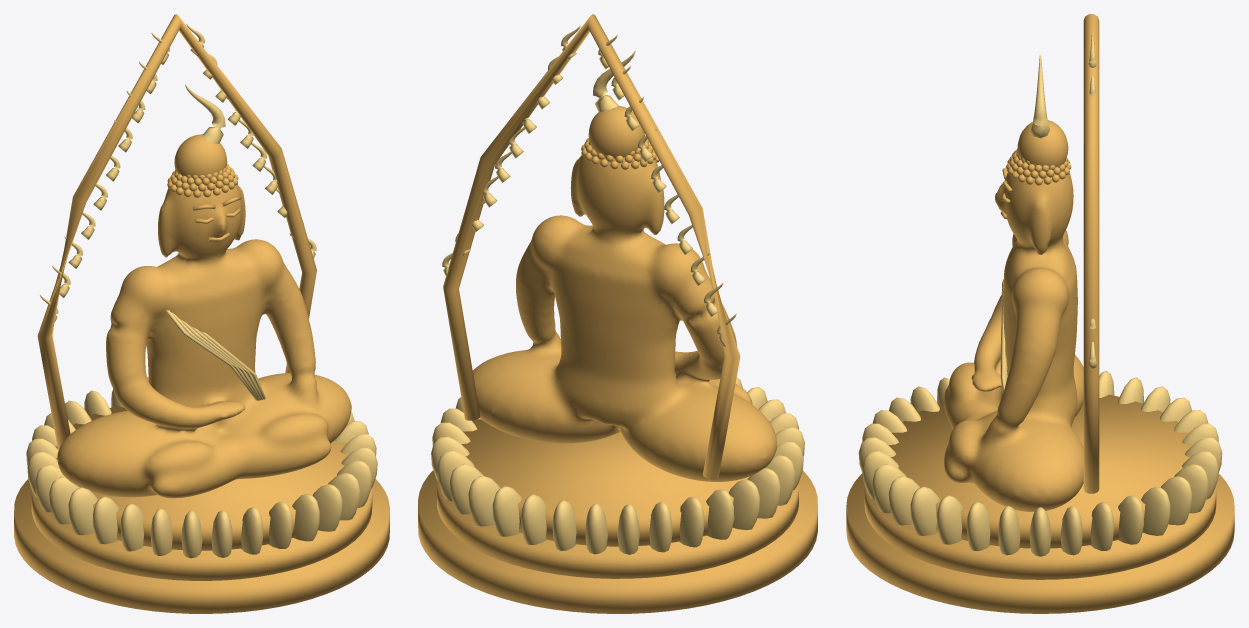
Rendered from buddha.glb.
The picture shows the model from 3 angles, left to right: view 1: azimuth 30°, elevation 25°; view 2: azimuth 150°, elevation 25°; view 3: azimuth 270°, elevation 25°; orthographic projection. The views are drawn at different scales.
Parts seen in each view (by area): view 1: buddha / Antique warm gold, buddha / Raised gold ornament; view 2: buddha / Antique warm gold, buddha / Raised gold ornament; view 3: buddha / Antique warm gold, buddha / Raised gold ornament.
Boxes of the visible parts, x1=… form: buddha / Antique warm gold: x1=14, y1=14, x2=389, y2=613; buddha / Raised gold ornament: x1=26, y1=24, x2=377, y2=558; buddha / Antique warm gold: x1=418, y1=14, x2=817, y2=613; buddha / Raised gold ornament: x1=431, y1=25, x2=804, y2=554; buddha / Antique warm gold: x1=846, y1=14, x2=1234, y2=613; buddha / Raised gold ornament: x1=858, y1=32, x2=1222, y2=556.
Bounding box in the file's own units: 3.2 × 4.71 × 3.2.
